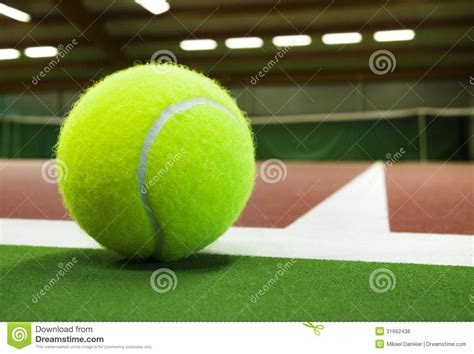tennis_ball: (54, 62, 257, 263)
